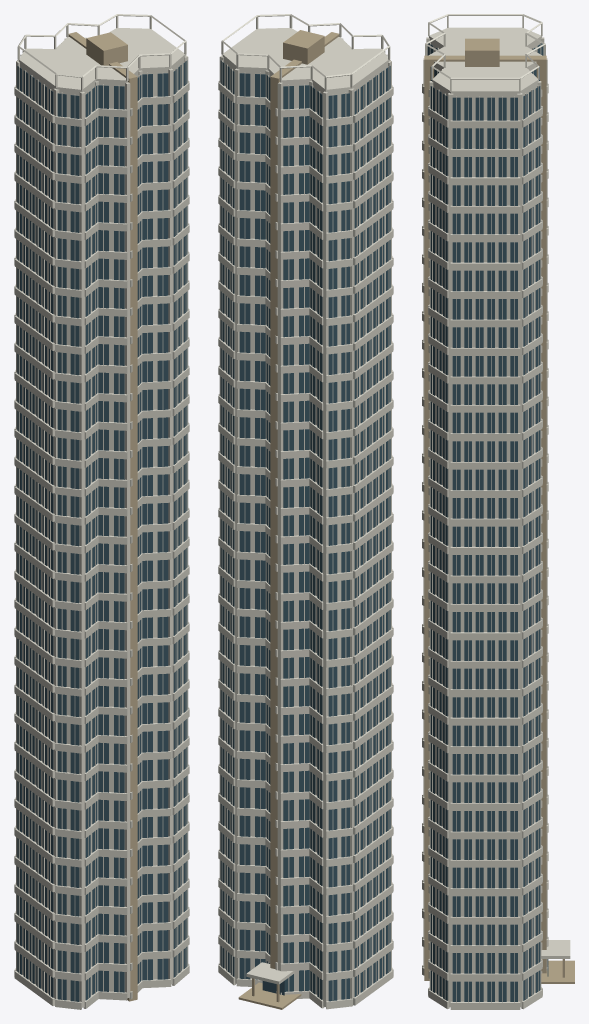
The model's file is KOL_T1_URBANA__Tower_06.fbx.
The picture shows the model from 3 angles, left to right: view 1: azimuth 30°, elevation 25°; view 2: azimuth 150°, elevation 25°; view 3: azimuth 270°, elevation 25°; orthographic projection.
Parts seen in each view (by area): view 1: KOL_T1_URBANA__Tower_06__KOL_T1_Pearl, KOL_T1_URBANA__Tower_06__KOL_T1_Glass, KOL_T1_URBANA__Tower_06__KOL_T1_Pearl.001, KOL_T1_URBANA__Tower_06__KOL_T1_Stone; view 2: KOL_T1_URBANA__Tower_06__KOL_T1_Pearl, KOL_T1_URBANA__Tower_06__KOL_T1_Glass, KOL_T1_URBANA__Tower_06__KOL_T1_Pearl.001, KOL_T1_URBANA__Tower_06__KOL_T1_Stone; view 3: KOL_T1_URBANA__Tower_06__KOL_T1_Pearl, KOL_T1_URBANA__Tower_06__KOL_T1_Glass, KOL_T1_URBANA__Tower_06__KOL_T1_Stone, KOL_T1_URBANA__Tower_06__KOL_T1_Pearl.001.
Part boxes in pixels (x1,y1,x2,y2): KOL_T1_URBANA__Tower_06__KOL_T1_Pearl: (14,38,189,1009); KOL_T1_URBANA__Tower_06__KOL_T1_Glass: (17,60,187,1001); KOL_T1_URBANA__Tower_06__KOL_T1_Pearl.001: (14,14,189,212); KOL_T1_URBANA__Tower_06__KOL_T1_Stone: (68,32,137,1001); KOL_T1_URBANA__Tower_06__KOL_T1_Pearl: (218,38,393,1009); KOL_T1_URBANA__Tower_06__KOL_T1_Glass: (220,60,390,1001); KOL_T1_URBANA__Tower_06__KOL_T1_Pearl.001: (218,14,393,984); KOL_T1_URBANA__Tower_06__KOL_T1_Stone: (238,30,339,1009); KOL_T1_URBANA__Tower_06__KOL_T1_Pearl: (422,37,548,1009); KOL_T1_URBANA__Tower_06__KOL_T1_Glass: (427,43,548,1001); KOL_T1_URBANA__Tower_06__KOL_T1_Stone: (424,38,574,983); KOL_T1_URBANA__Tower_06__KOL_T1_Pearl.001: (422,14,570,958).
Bounding box in the file's own units: 50.8 × 329 × 48.68.
